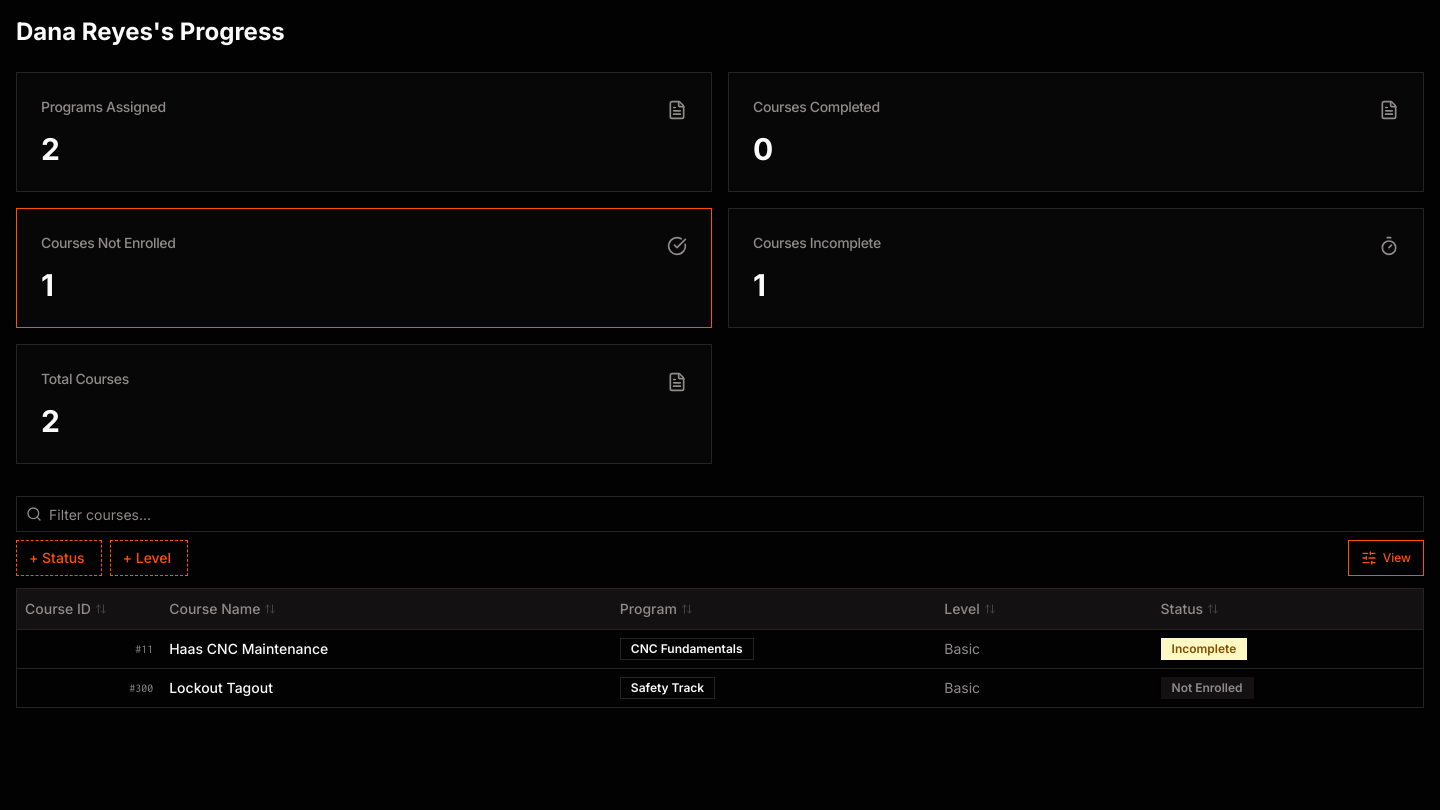
StudentProgressView table › keeps Programs Assigned independent of the table filter
Expected: the text "Haas CNC Maintenance" is shown, [161,629,612,668]
Type "lockout" into the field with placeholder "Filter courses..." at (720, 514), box [16,496,1424,532]
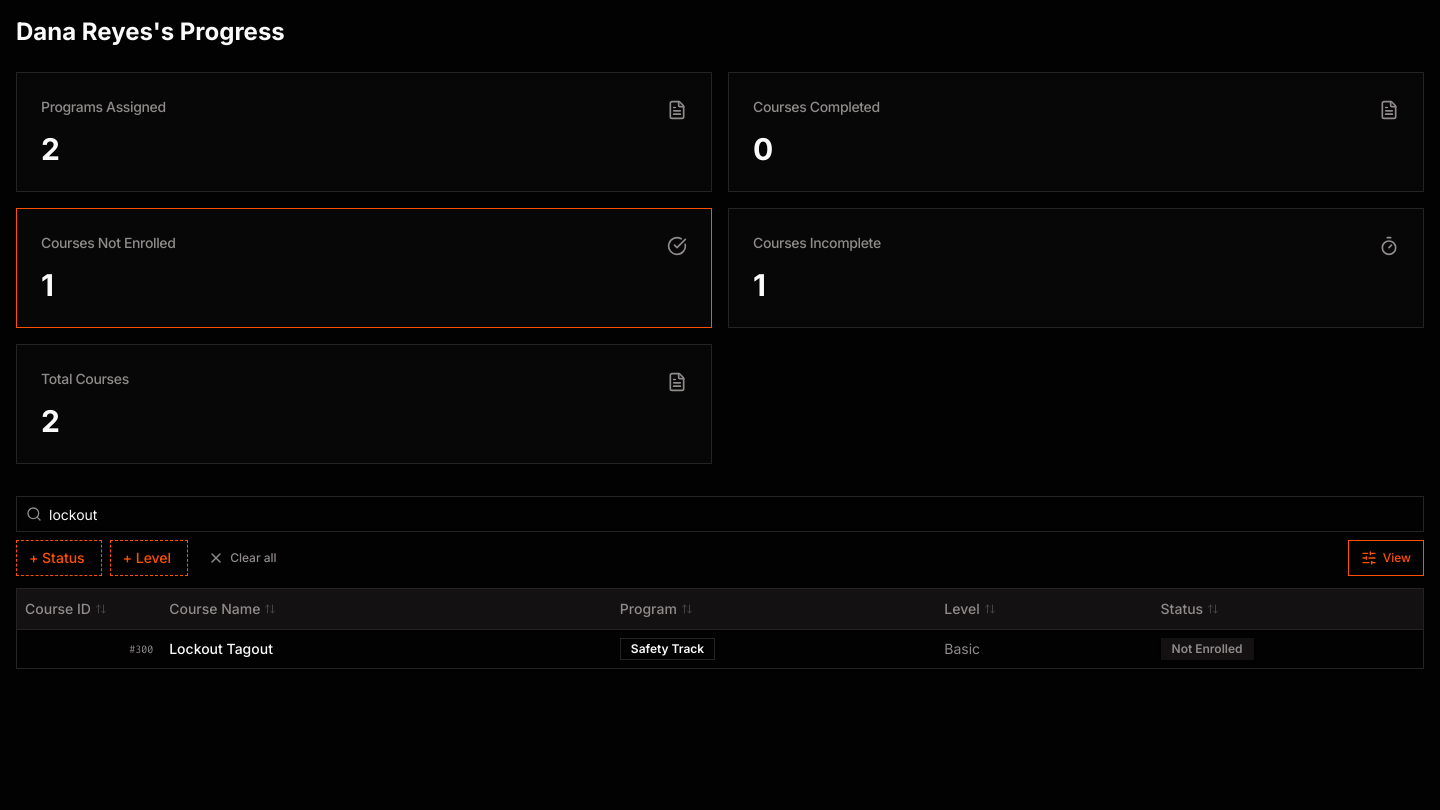
Expected: the text "Haas CNC Maintenance" is gone
